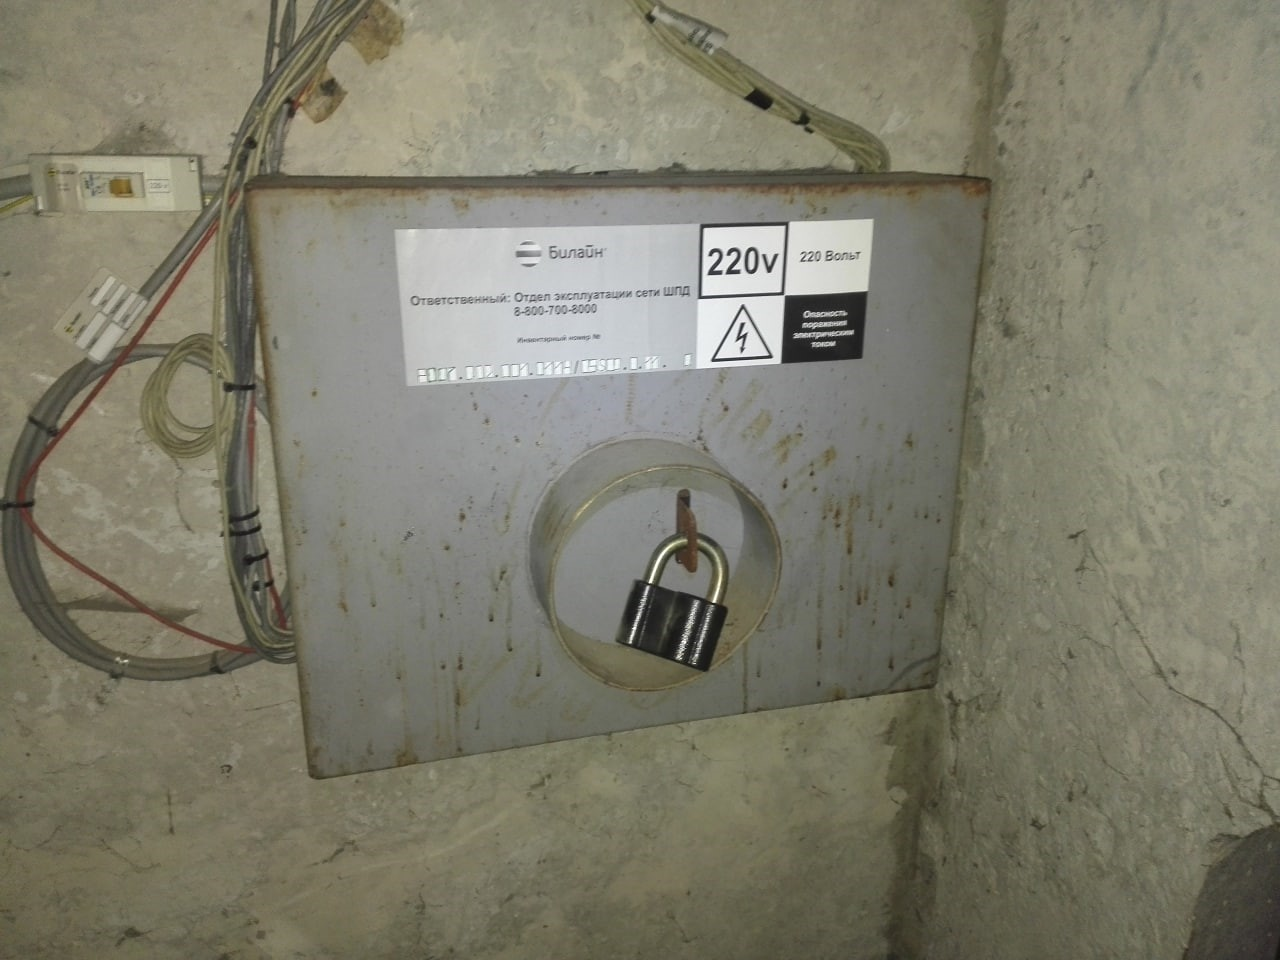shta-3: (238, 165, 993, 789)
